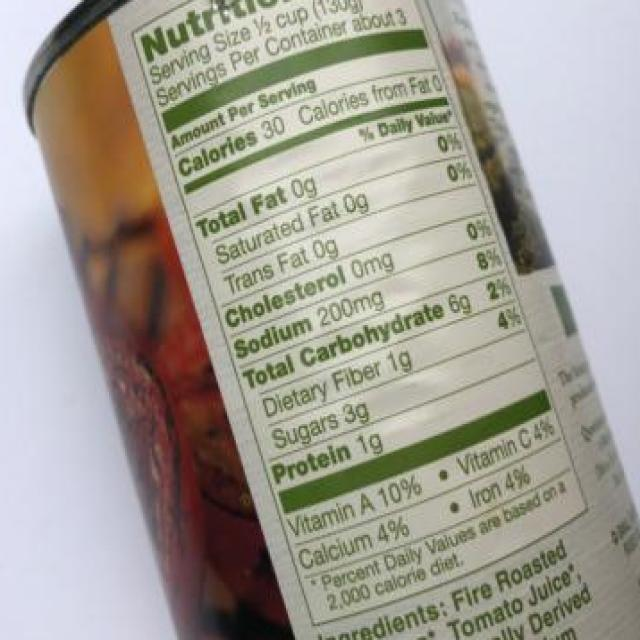organic: (16, 13, 634, 640)
